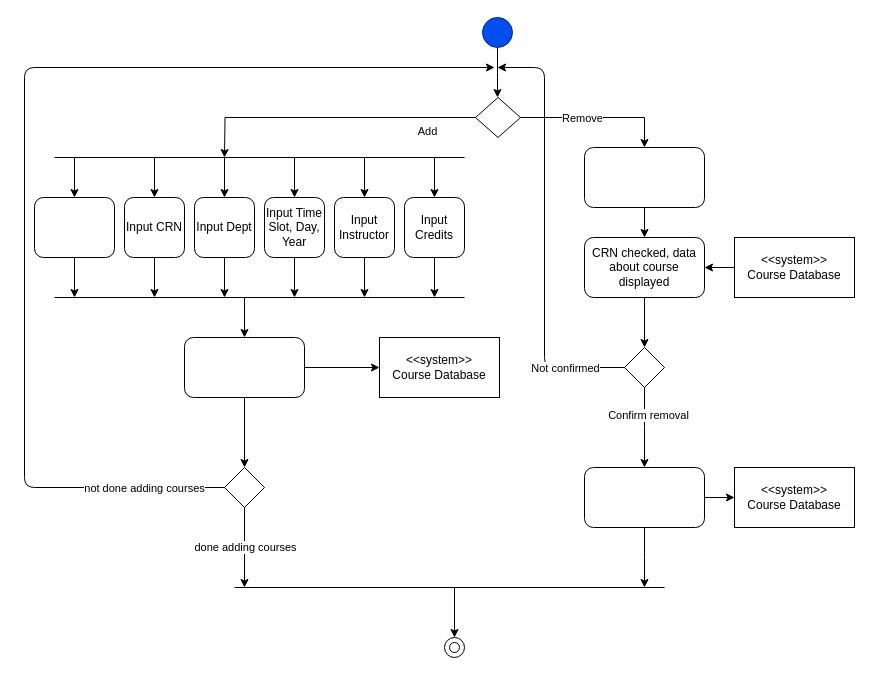
This 872x675 diagram has some shape labels left out. Each missing label, with the box of its shape:
Information checked added to database: (184, 336, 304, 398)
Information removed from database: (584, 466, 704, 528)
Input course title: (34, 196, 114, 258)
Type CRN of course to remove: (584, 146, 704, 208)
